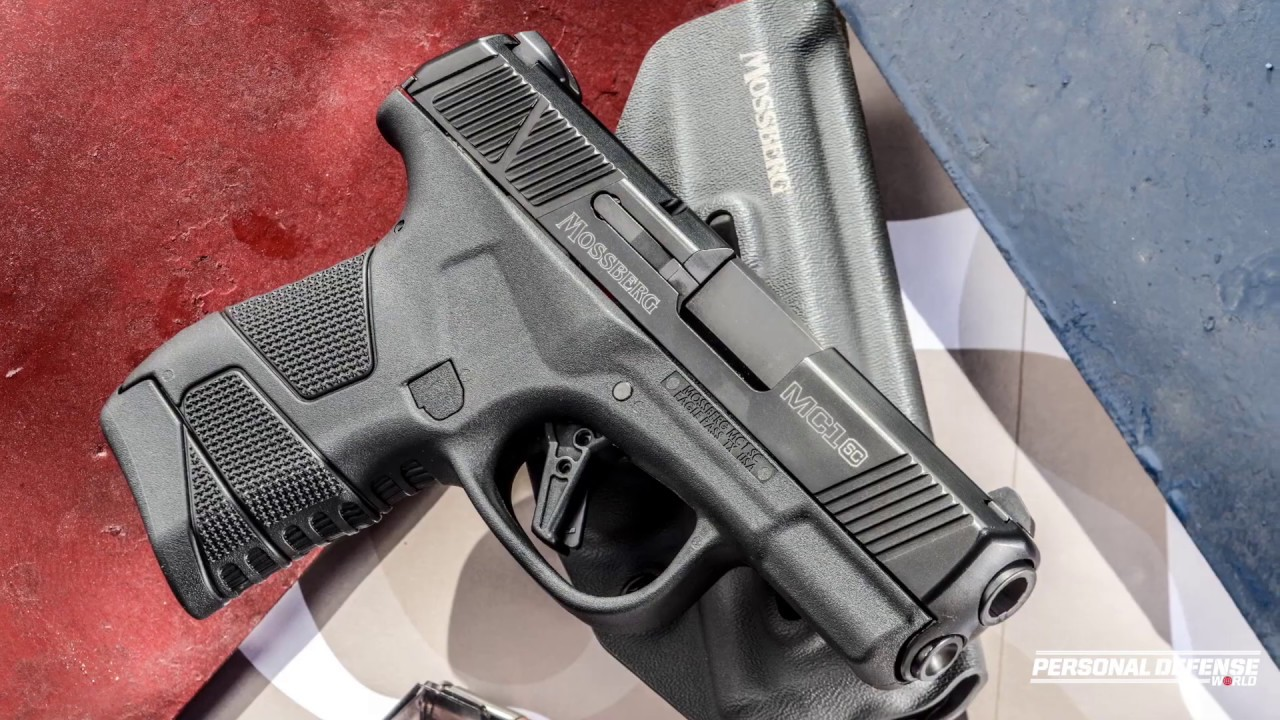gun: (84, 25, 1052, 704)
